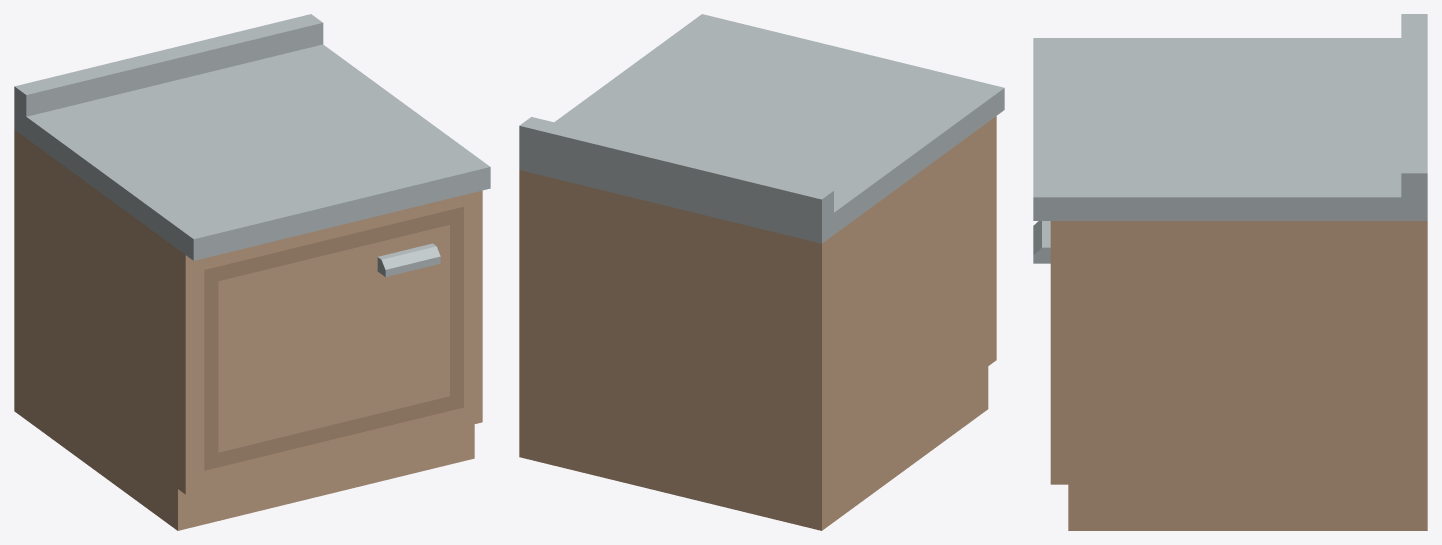
Rendered from kitchenCabinet.glb.
3 renders of one model, left to right at view 1: azimuth 30°, elevation 25°; view 2: azimuth 150°, elevation 25°; view 3: azimuth 270°, elevation 25°, orthographic. The views are drawn at different scales.
Parts seen in each view (by area): view 1: kitchenCabinet; view 2: kitchenCabinet; view 3: kitchenCabinet.
Boxes of the visible parts, bbox=[...] form: kitchenCabinet: bbox=[14, 14, 490, 530]; kitchenCabinet: bbox=[519, 14, 1004, 530]; kitchenCabinet: bbox=[1033, 14, 1427, 530].
Size of the model in its own units: 0.43 by 0.45 by 0.45.
